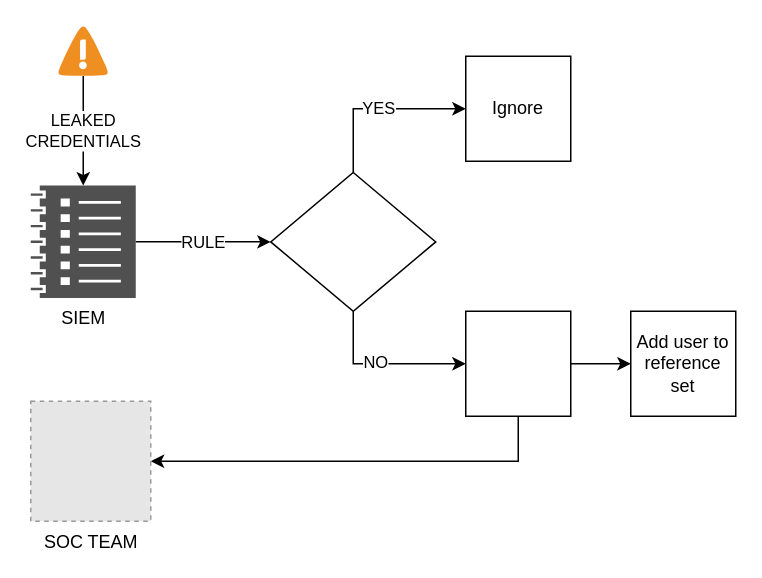
This 762x578 diagram has some shape labels left out. Grey dashed boxes stand in for pictures. The shapes that lost their labels are listed below. From the top down, each one's centre as x and y in pixels, then its label:
[352,241]: Is user within reference set?
[517,363]: Create Offense
